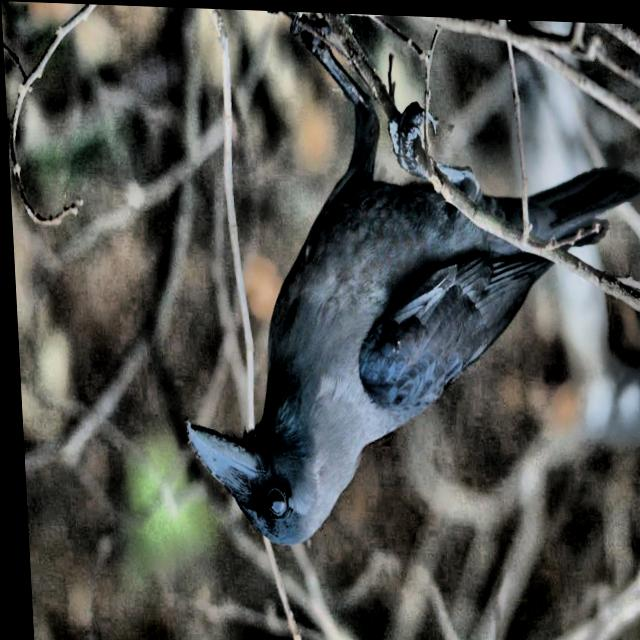crow: (160, 25, 640, 560)
